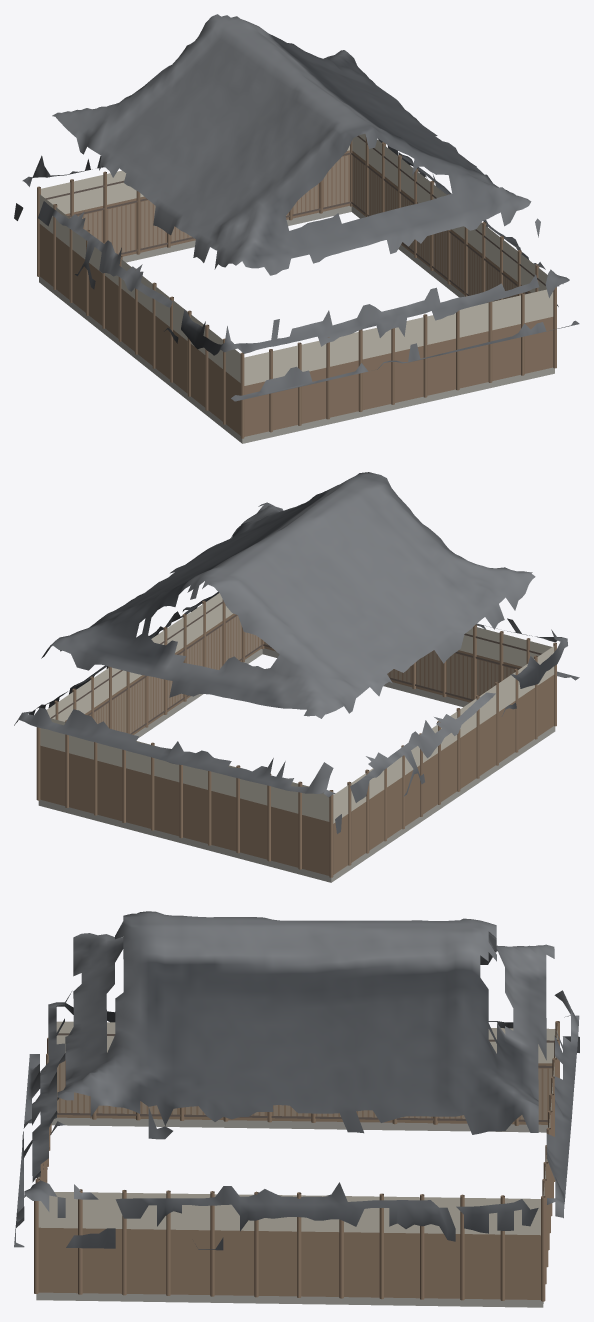
The model's file is nanzenji-hatto.glb.
3 renders of one model, top to bottom at view 1: azimuth 30°, elevation 25°; view 2: azimuth 150°, elevation 25°; view 3: azimuth 270°, elevation 25°, orthographic. The views are drawn at different scales.
Visible parts, largest first — view 1: Measured roof, Weathered timber, Lime plaster, Shutter slats, Stone footings, Timber in shade; view 2: Measured roof, Weathered timber, Lime plaster, Shutter slats, Stone footings, Timber in shade; view 3: Measured roof, Weathered timber, Lime plaster, Stone footings, Shutter slats, Timber in shade.
Boxes of the visible parts, x1=… form: Measured roof: x1=14, y1=14, x2=579, y2=401; Weathered timber: x1=37, y1=135, x2=556, y2=438; Lime plaster: x1=39, y1=134, x2=553, y2=385; Shutter slats: x1=78, y1=155, x2=524, y2=301; Stone footings: x1=39, y1=206, x2=554, y2=443; Timber in shade: x1=45, y1=135, x2=545, y2=295; Measured roof: x1=14, y1=472, x2=579, y2=833; Weathered timber: x1=36, y1=599, x2=556, y2=877; Lime plaster: x1=40, y1=593, x2=554, y2=823; Shutter slats: x1=90, y1=615, x2=513, y2=733; Stone footings: x1=38, y1=648, x2=555, y2=882; Timber in shade: x1=50, y1=601, x2=541, y2=734; Measured roof: x1=14, y1=911, x2=579, y2=1250; Weathered timber: x1=34, y1=1021, x2=559, y2=1301; Lime plaster: x1=38, y1=1021, x2=557, y2=1235; Stone footings: x1=36, y1=1117, x2=547, y2=1307; Shutter slats: x1=57, y1=1061, x2=552, y2=1119; Timber in shade: x1=40, y1=1033, x2=553, y2=1195.
Bounding box in the file's own units: 28.72 × 19.45 × 34.11.
Materials: 6 (1 with a texture image).
